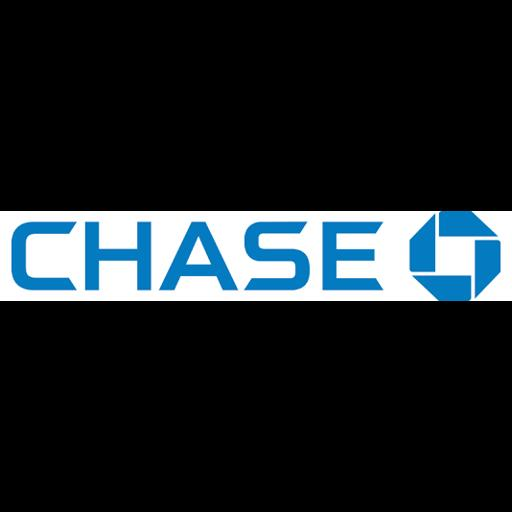Chase Personal Banking: (0, 211, 512, 301)
